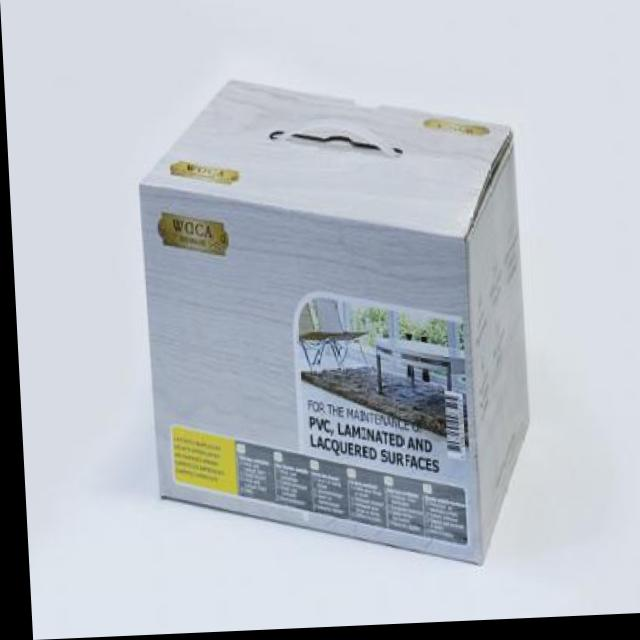box: (126, 50, 546, 597)
